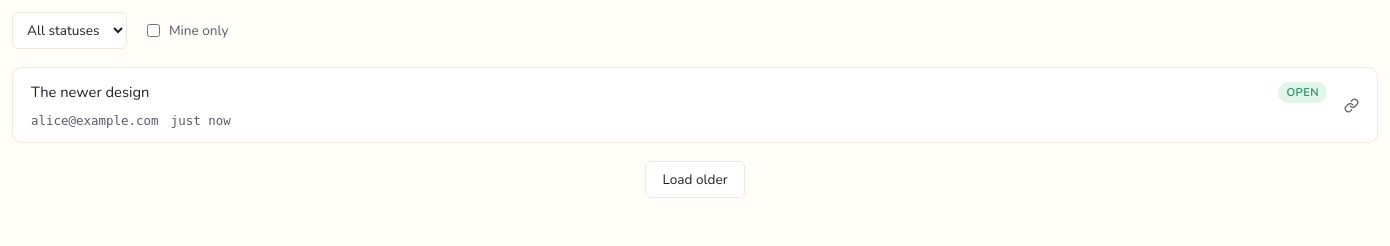
Test: DesignsView › shows a 'Load older' button when a next page exists, and appends the next page on click
Expected: the text "The newer design" is shown, left=31, top=82, right=149, bottom=102
Expected: the text "The older design" is not shown
Click the button "Load older". click: (695, 180)
box: left=646, top=161, right=744, bottom=198
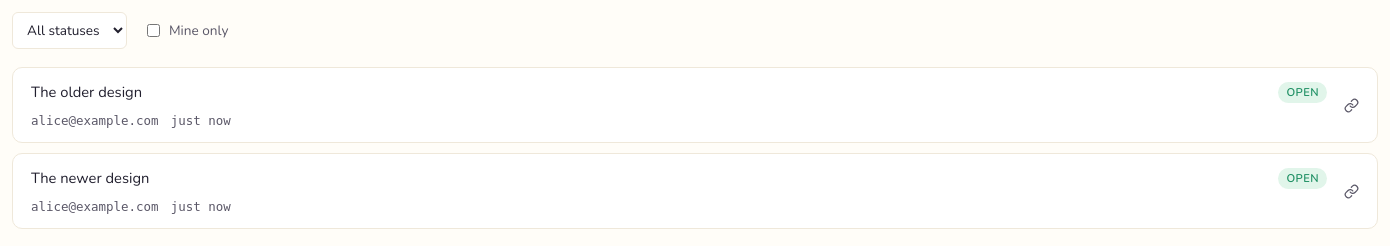
Expected: the text "The newer design" is shown, left=31, top=168, right=149, bottom=188
Expected: the text "The older design" is shown, left=31, top=82, right=142, bottom=102
Expected: the button "Load older" is gone
